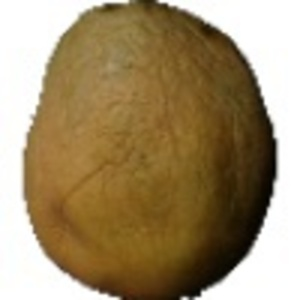mamão: (14, 3, 281, 294)
